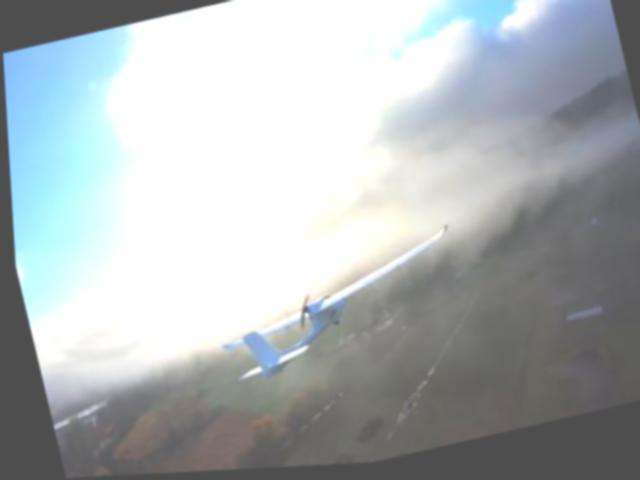uav: (193, 218, 478, 398)
